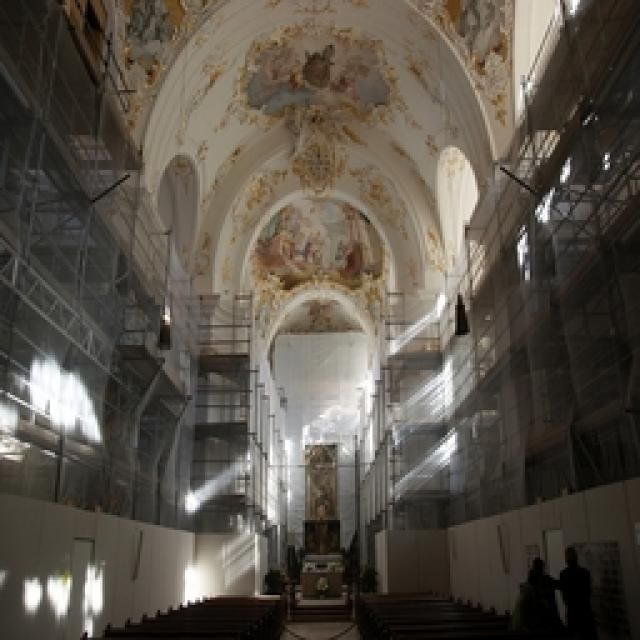Abbey: (142, 1, 508, 640)
